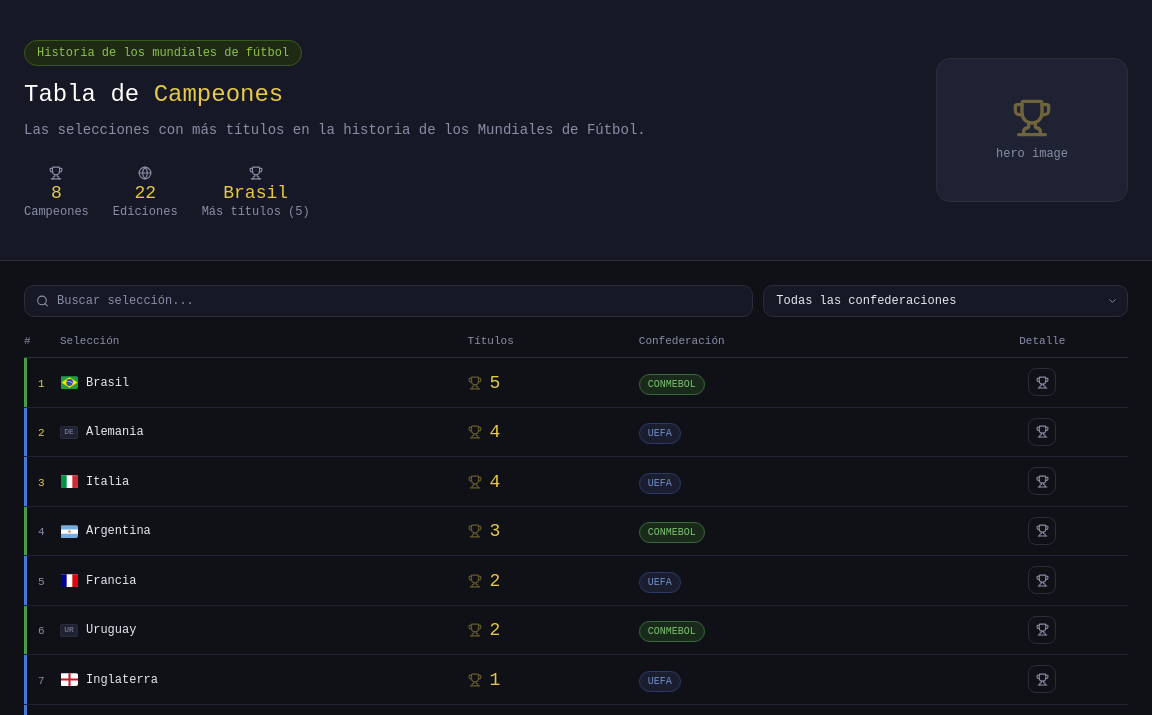
Scenario: ChampionsPage › filters champions locally by confederation
The width and height of the screenshot is (1152, 715).
Select "CONMEBOL" in the dropdown at (946,301), box [763, 285, 1128, 317]
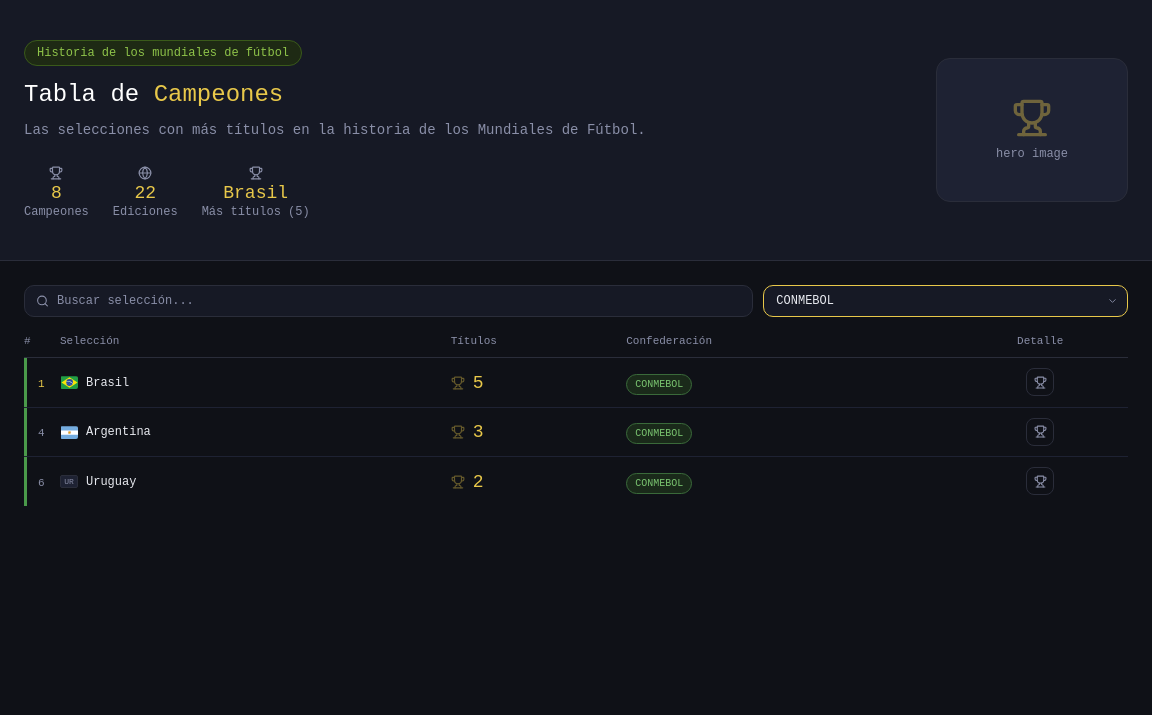
Expected: the text "Argentina" is shown, [86, 424, 151, 440]
Now the text "Alemania" is gone
